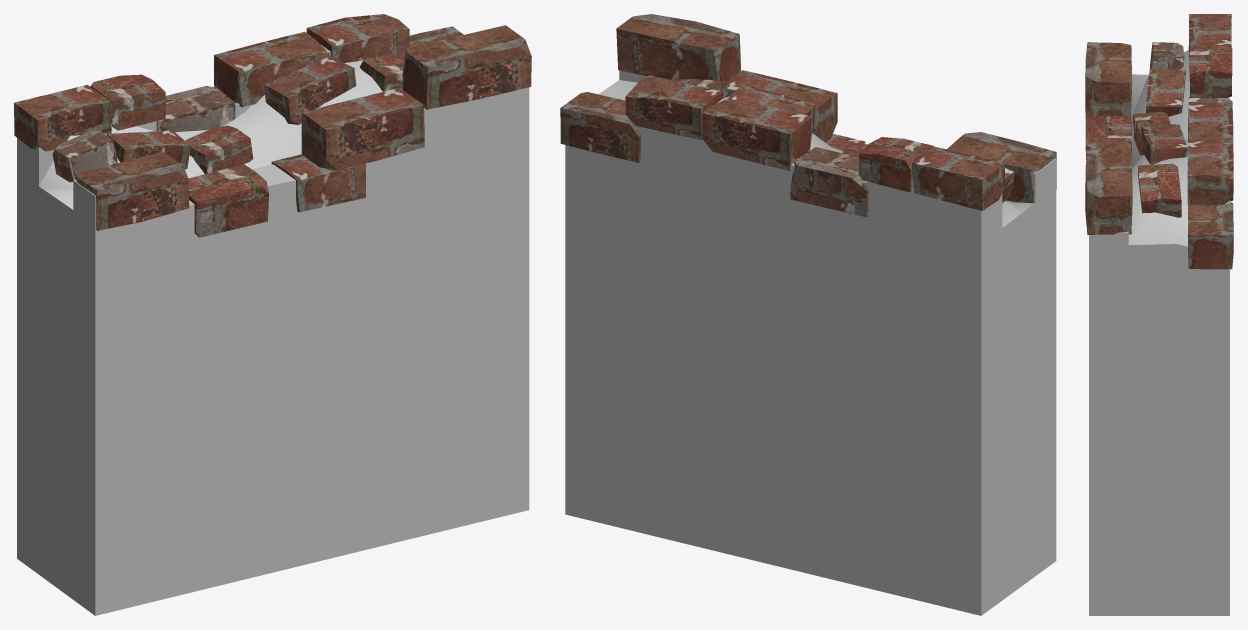
File: SM_Wall_Thick_Ruined_012.fbx
3 views of the same model, side by side, from view 1: azimuth 30°, elevation 25°; view 2: azimuth 150°, elevation 25°; view 3: azimuth 270°, elevation 25° (orthographic). The views are drawn at different scales.
Parts seen in each view (by area): view 1: SM_Wall_Thick_Ruined_012_LOD0; view 2: SM_Wall_Thick_Ruined_012_LOD0; view 3: SM_Wall_Thick_Ruined_012_LOD0.
Boxes of the visible parts, x1=… form: SM_Wall_Thick_Ruined_012_LOD0: x1=14, y1=14, x2=531, y2=615; SM_Wall_Thick_Ruined_012_LOD0: x1=560, y1=14, x2=1056, y2=615; SM_Wall_Thick_Ruined_012_LOD0: x1=1085, y1=14, x2=1233, y2=615.
Size of what is drawn, in the model's own units: 405 by 413 by 132.
